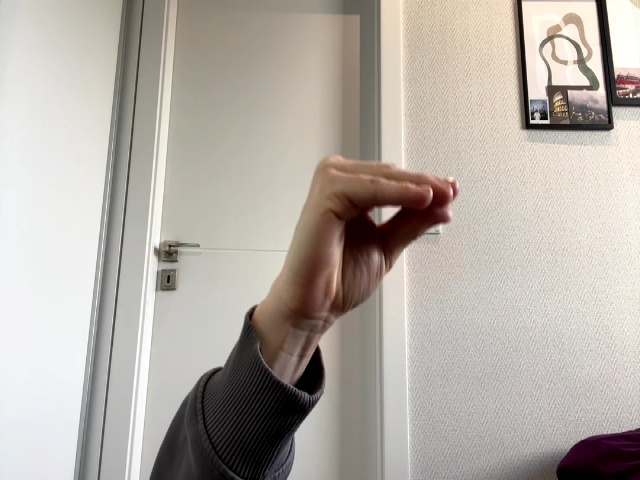E: (275, 156, 459, 330)
